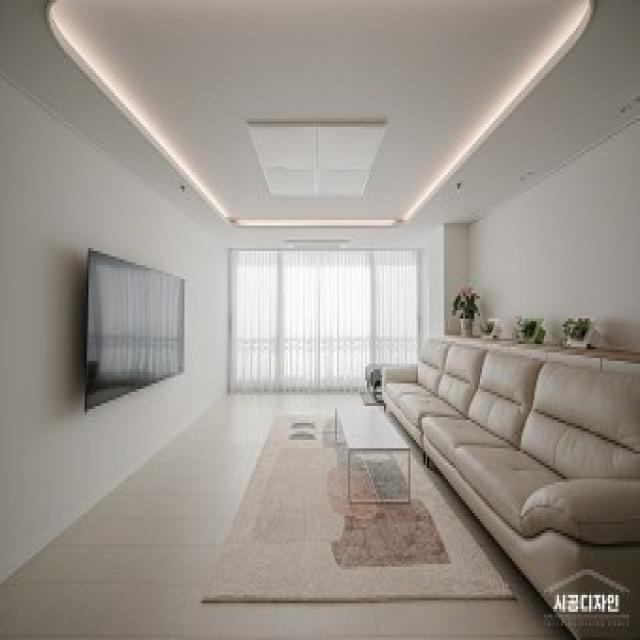Sofa: (385, 329, 640, 640)
Table: (334, 403, 410, 505)
tv: (88, 248, 185, 410)
